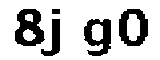0: (118, 7, 149, 51)
8: (11, 4, 47, 48)
g: (78, 15, 113, 60)
j: (42, 3, 70, 59)
